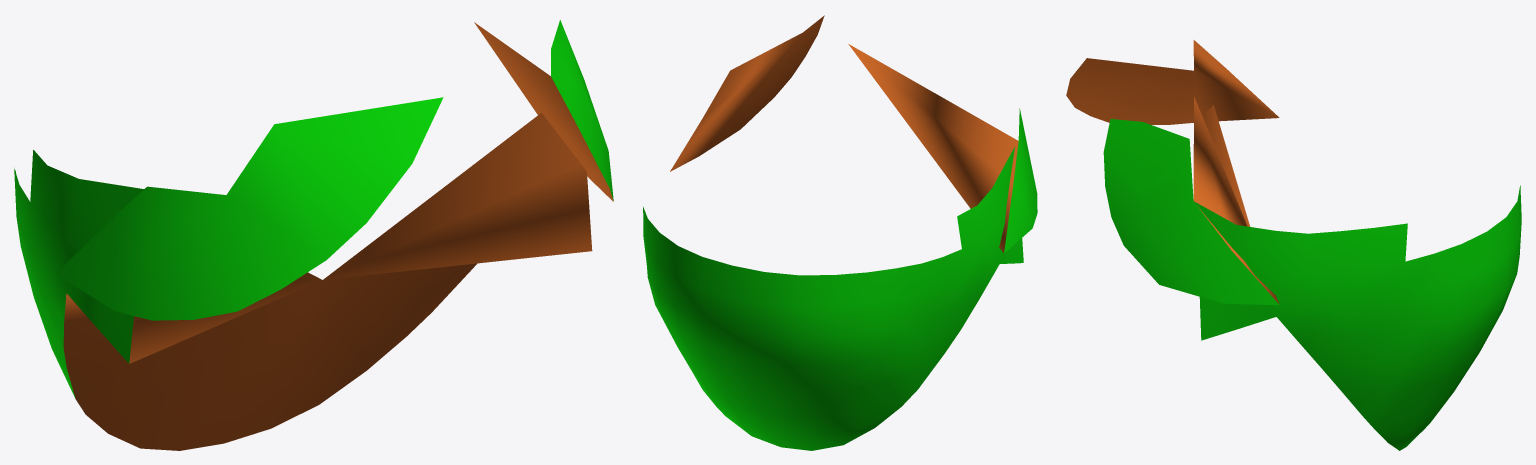
Rendered from Hair2_70.glb.
The picture shows the model from 3 angles, left to right: view 1: azimuth 30°, elevation 25°; view 2: azimuth 150°, elevation 25°; view 3: azimuth 270°, elevation 25°; orthographic projection. The views are drawn at different scales.
Bounding box in the file's own units: 57.37 × 54.06 × 58.98.
